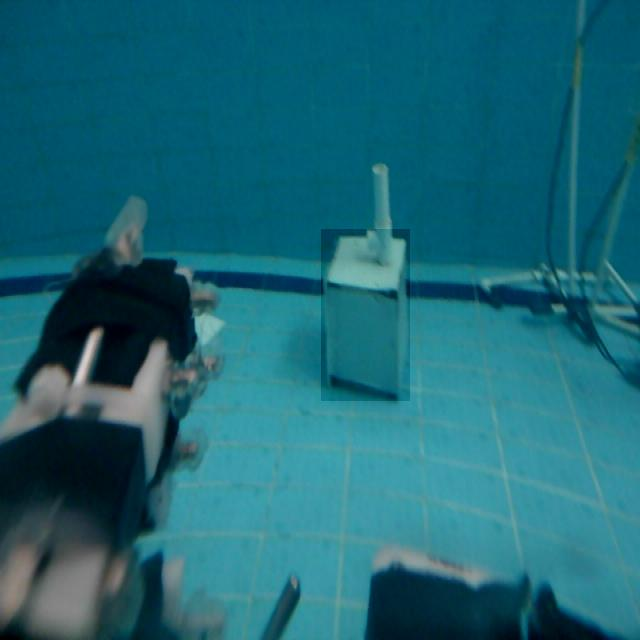Cube: (321, 230, 410, 402)
